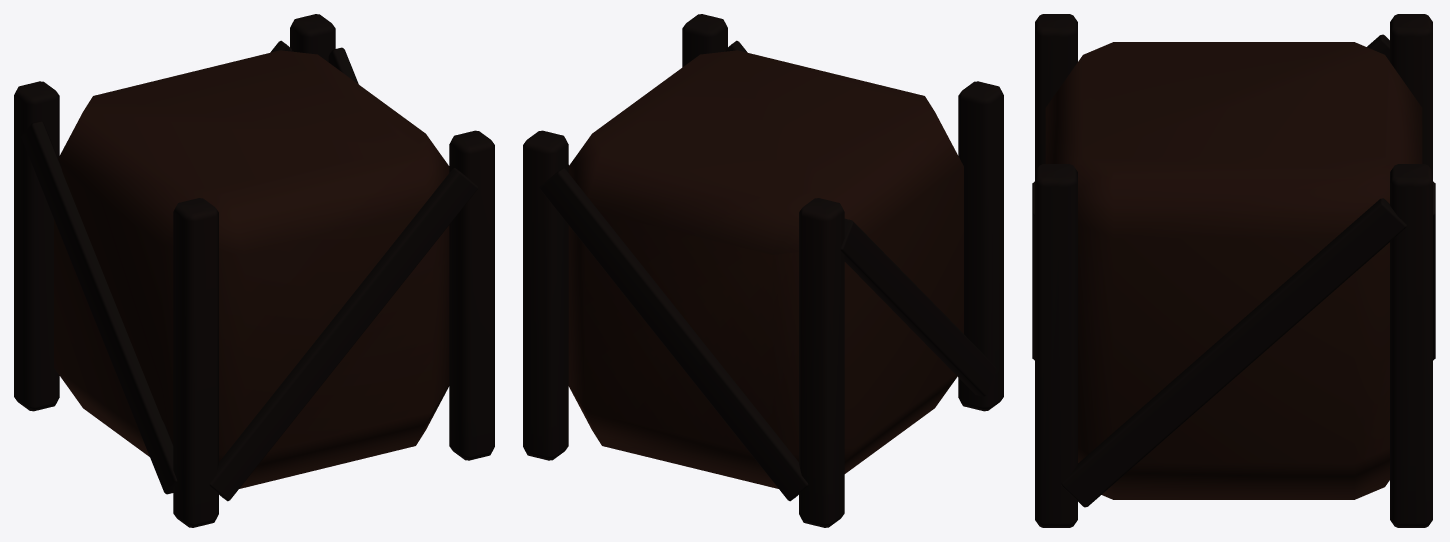
The model's file is Caixote.fbx.
The picture shows the model from 3 angles, left to right: view 1: azimuth 30°, elevation 25°; view 2: azimuth 150°, elevation 25°; view 3: azimuth 270°, elevation 25°; orthographic projection. The views are drawn at different scales.
Parts seen in each view (by area): view 1: Caixote; view 2: Caixote; view 3: Caixote.
Boxes of the visible parts, x1,y1,x2,y2 form: Caixote: [14, 14, 494, 527]; Caixote: [523, 14, 1003, 527]; Caixote: [1032, 14, 1435, 527].
Size of the model in its own units: 0.75 by 0.7172 by 0.75.
